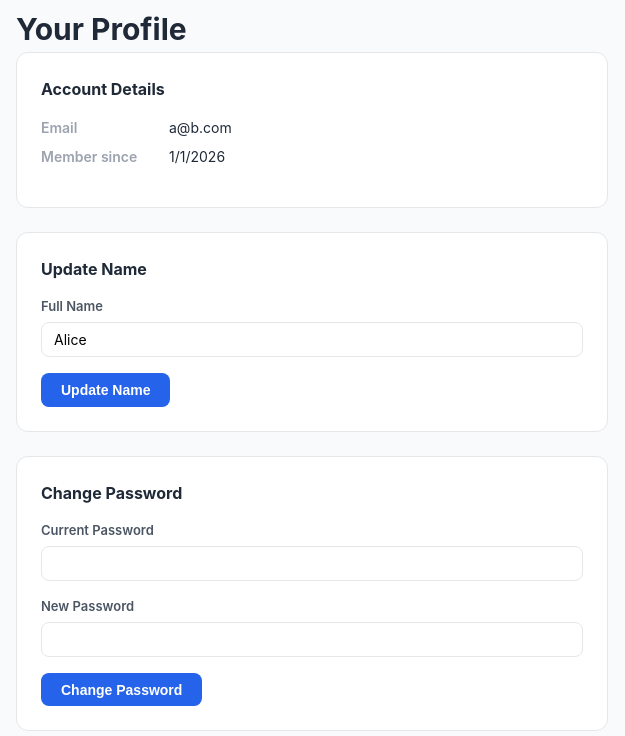
Test case: Profile password update › shows a success message and clears the form
Type "oldpass123" into the password field labelled "Current Password" at (312, 563), box [41,546,583,581]
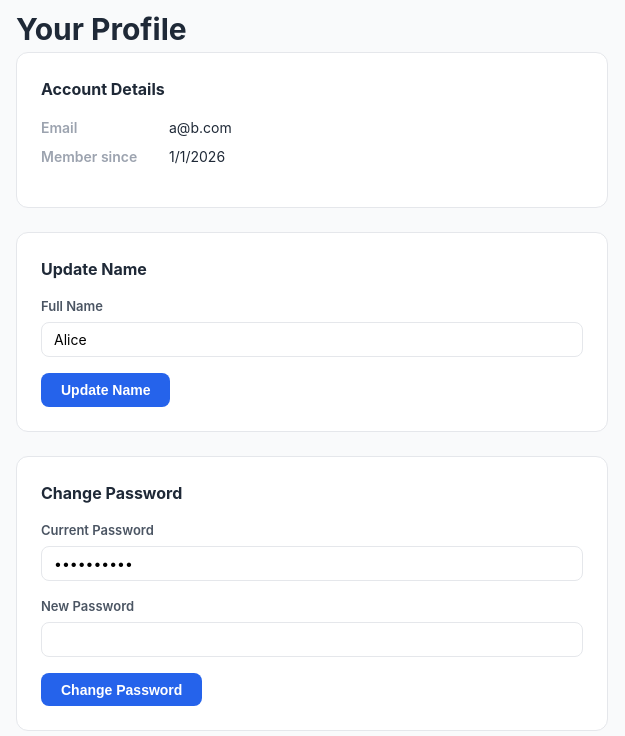
Type "newpassword123" into the password field labelled "New Password" at (312, 639), box [41,622,583,657]
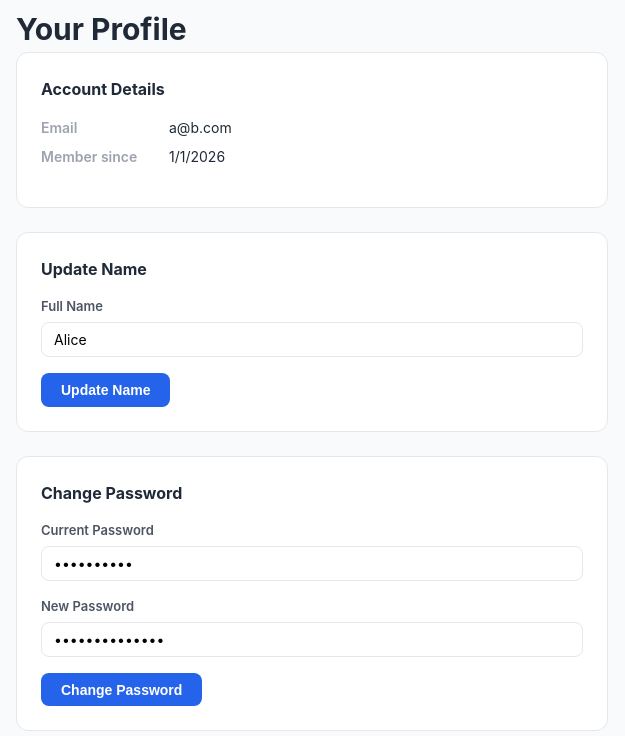
Click the button "Change Password" at (122, 690), box [41,673,202,706]
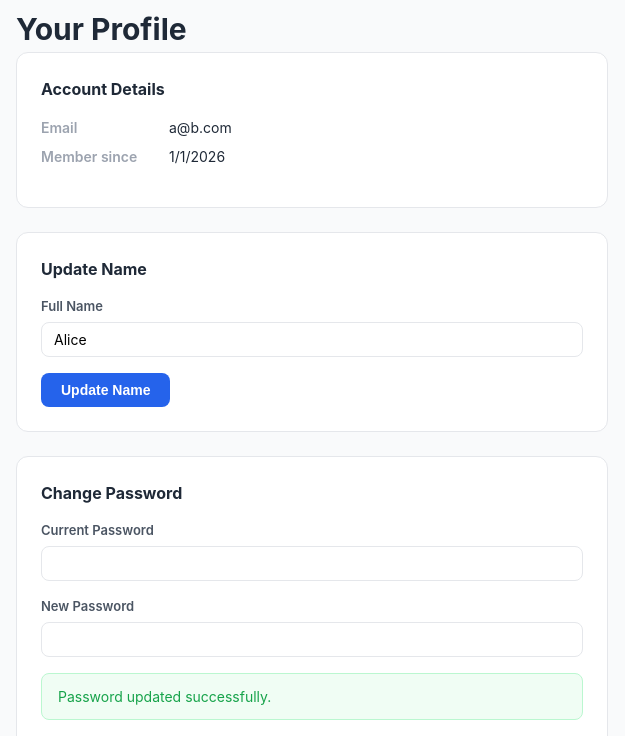
Expected: the text "Password updated successfully." is shown, [41,673,583,720]
Expected: the password field labelled "Current Password" is empty, [41,546,583,581]
